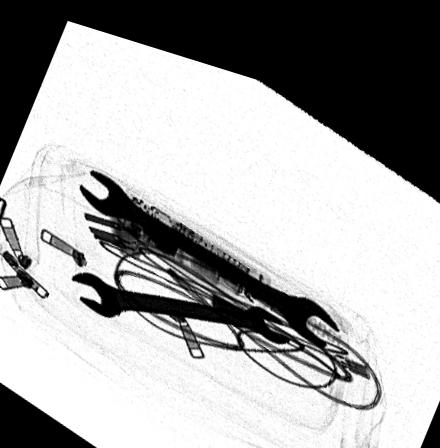Wrench: (79, 162, 340, 330), (69, 265, 290, 331)
